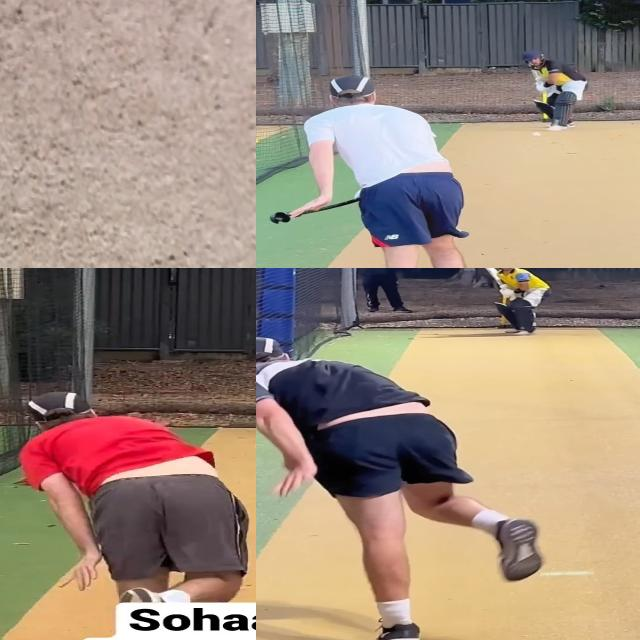Cricket ball: (529, 130, 546, 138)
